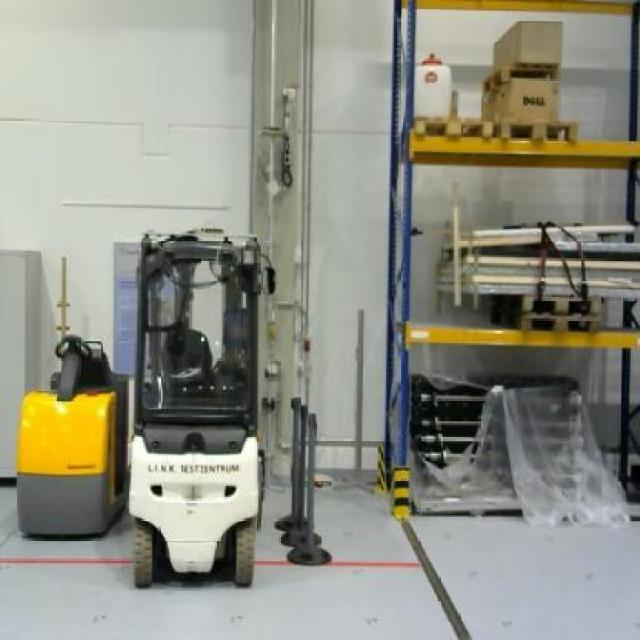box: (493, 16, 561, 70), (478, 78, 560, 120)
